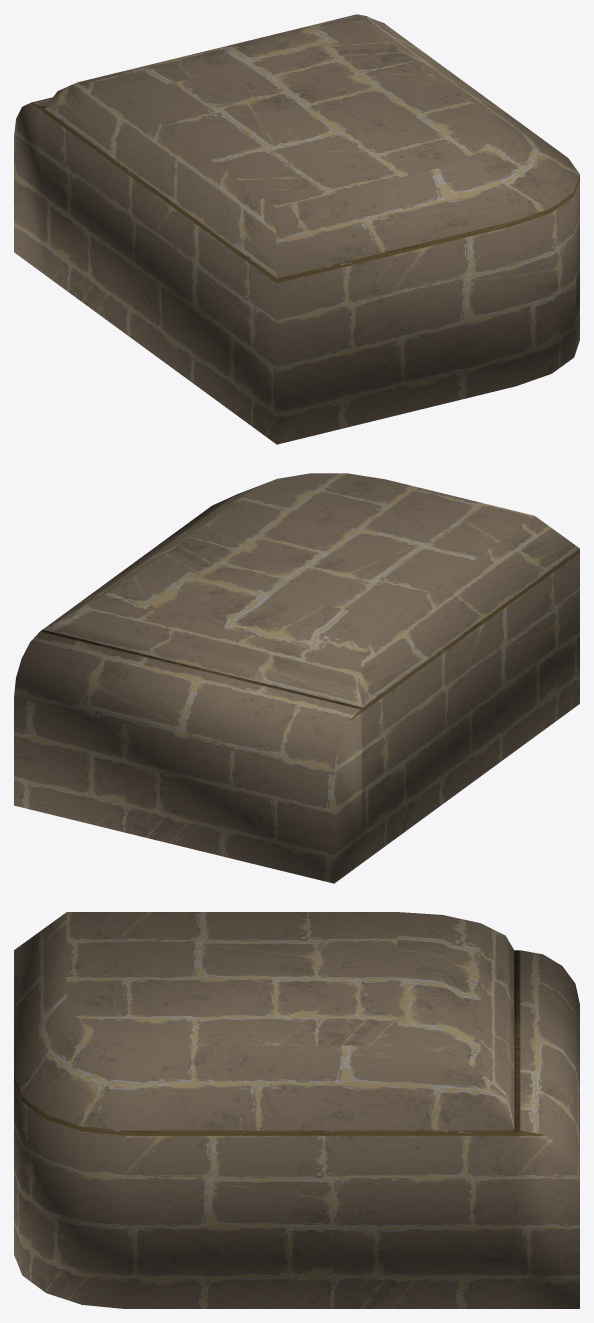
File: column_base.fbx
3 views of the same model, one above another, from view 1: azimuth 30°, elevation 25°; view 2: azimuth 150°, elevation 25°; view 3: azimuth 270°, elevation 25° (orthographic). The views are drawn at different scales.
Parts seen in each view (by area): view 1: Cube.672; view 2: Cube.672; view 3: Cube.672.
Boxes of the visible parts, x1,y1,x2,y2 form: Cube.672: (14,14,579,444); Cube.672: (14,473,579,883); Cube.672: (14,912,579,1308).
Bounding box in the file's own units: 2453 × 1459 × 3261.
